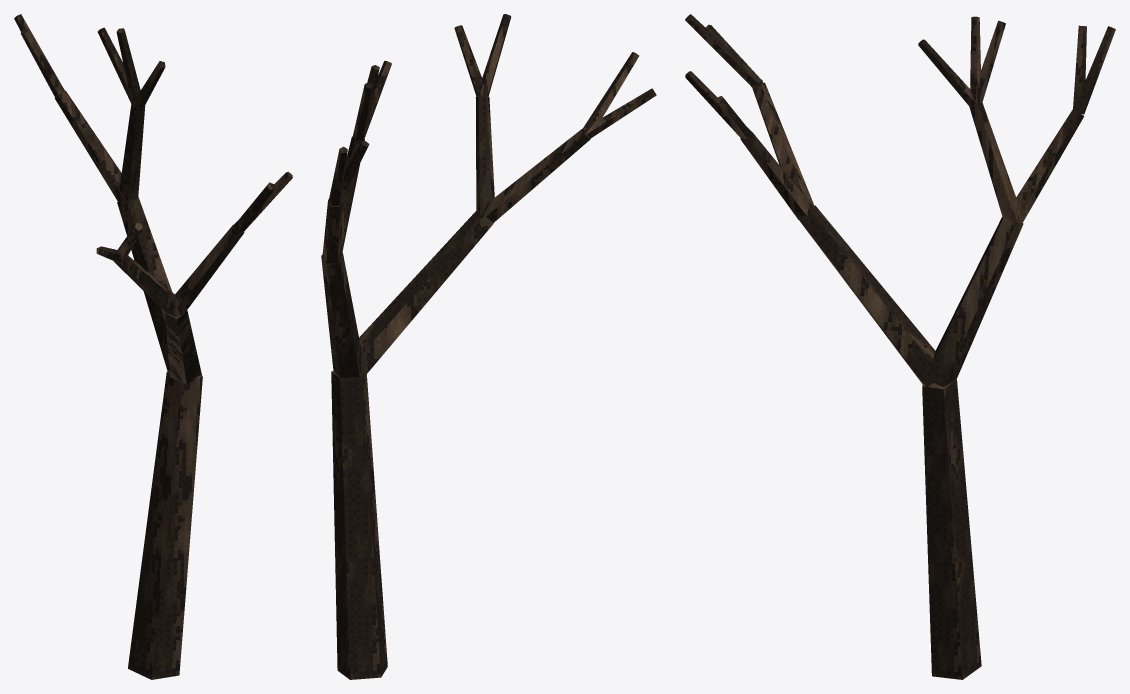
Rendered from arbol_muerto.obj.
3 renders of one model, left to right at view 1: azimuth 30°, elevation 25°; view 2: azimuth 150°, elevation 25°; view 3: azimuth 270°, elevation 25°, orthographic. The views are drawn at different scales.
Parts seen in each view (by area): view 1: arbol_muerto; view 2: arbol_muerto; view 3: arbol_muerto.
Part boxes in pixels (x1,y1,x2,y2): arbol_muerto: [14, 14, 292, 679]; arbol_muerto: [321, 14, 656, 679]; arbol_muerto: [685, 14, 1115, 679].
Bounding box in the file's own units: 1.84 × 5.14 × 3.13.
1 material, 1 textured.
